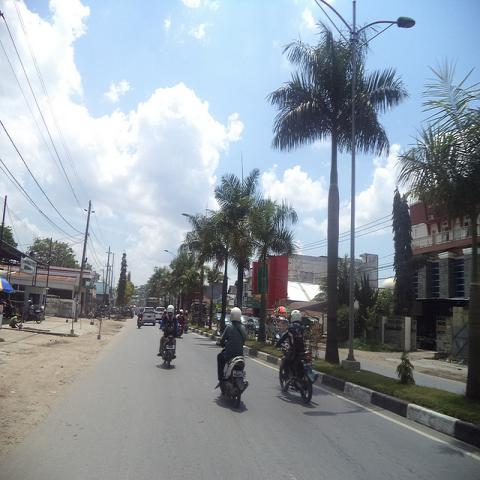car: (266, 316, 290, 340), (143, 306, 156, 326), (246, 316, 259, 334), (155, 307, 165, 319), (213, 313, 222, 325)
motorcycle: (278, 346, 322, 402), (223, 356, 249, 408), (161, 335, 177, 368), (176, 323, 184, 338), (137, 314, 144, 328), (162, 315, 168, 331), (184, 320, 188, 333)
